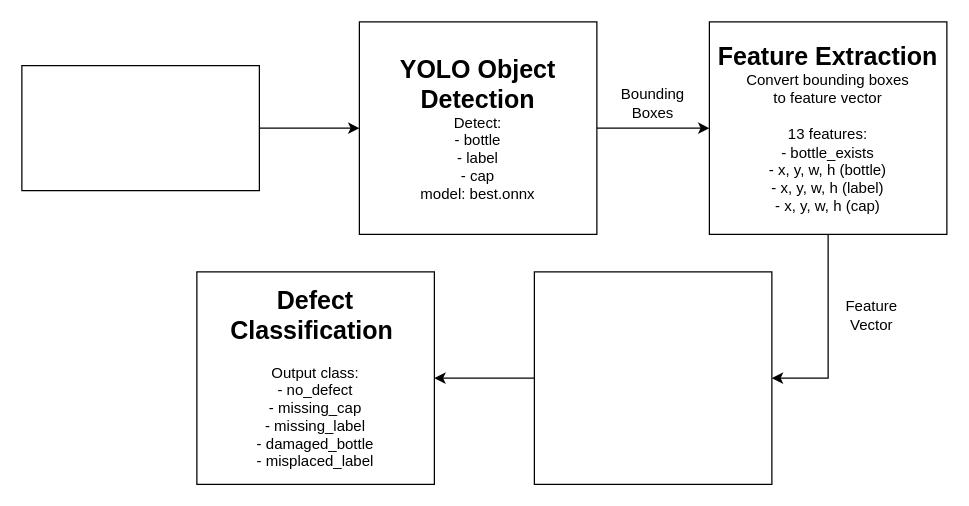
Image size: 969x506. Some labels were removed from this diagram. The box of each missing label's shape, as (x1, y1, x2, y2) in pixels:
Input Image Bottle image from "production line": (21, 64, 259, 191)
ML Classifier Random Forest (best model) trained on tabular data: (533, 271, 772, 484)
